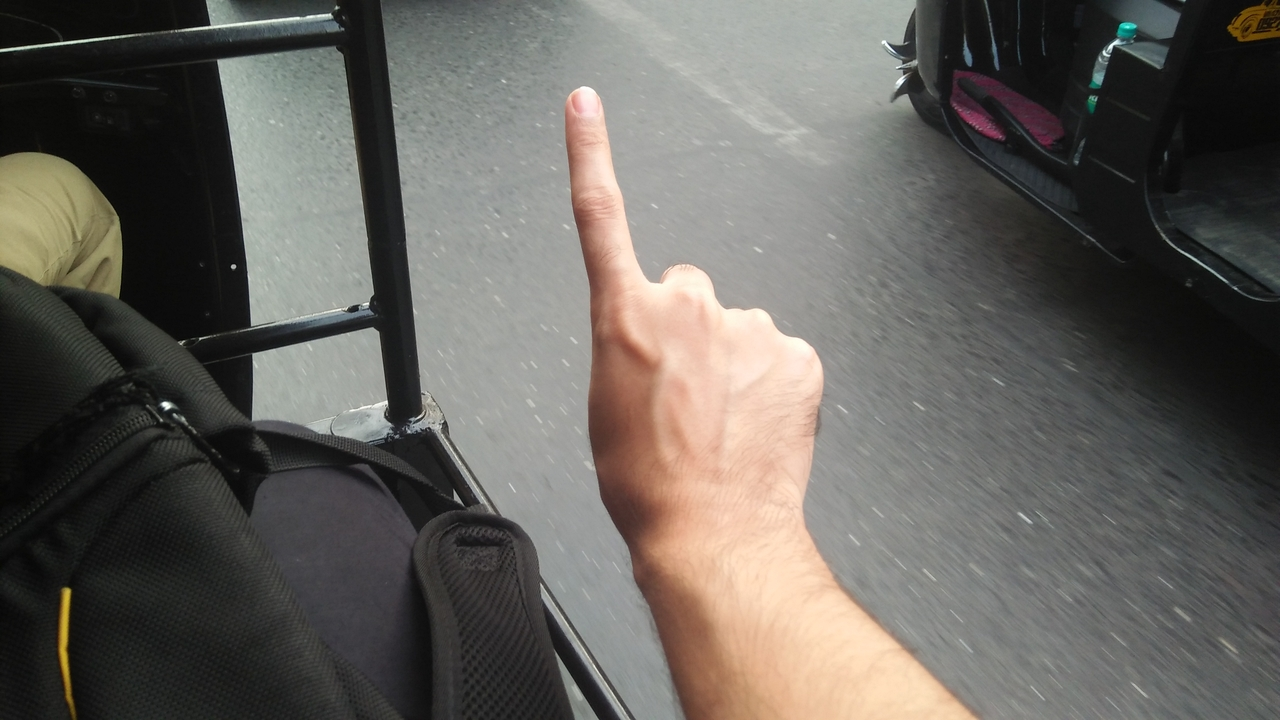fingertip: (558, 76, 612, 126)
